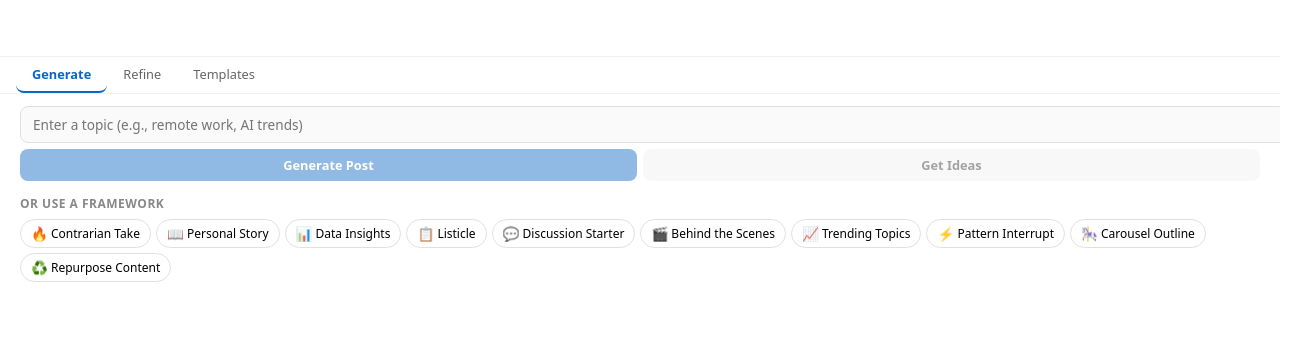
AiPanel › shows empty hint in Refine tab when no content
Click the button "Refine" at coordinates (142, 75), box [107, 57, 177, 93]
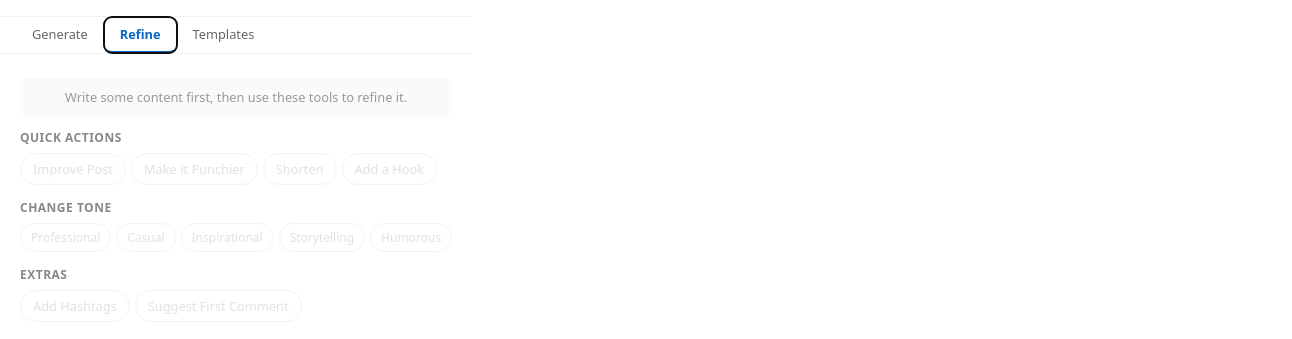
Expected: the text "Write some content first, then use these tools to refine it." is shown, [20, 78, 452, 118]
